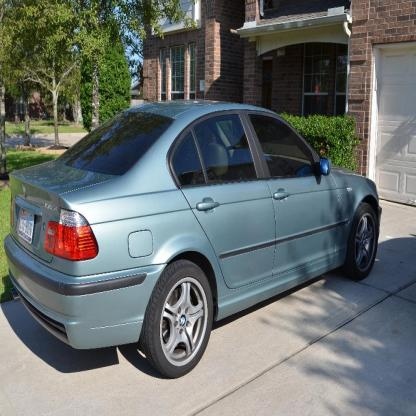Car: (5, 101, 384, 380)
